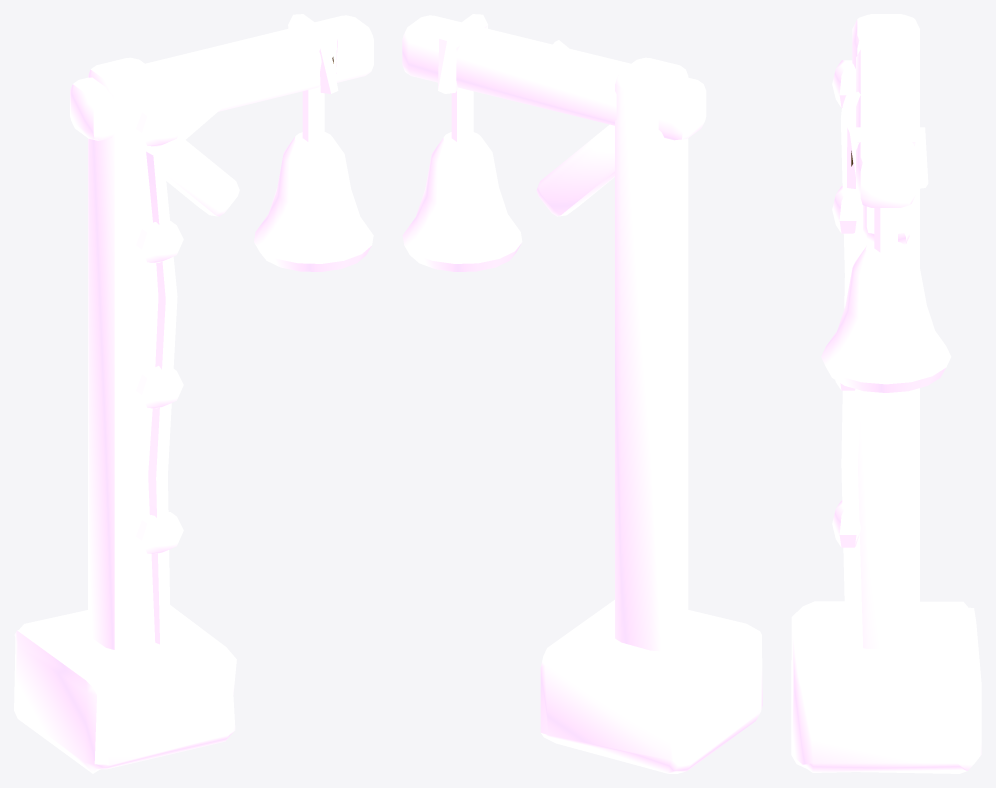
File: bell.gltf
The picture shows the model from 3 angles, left to right: view 1: azimuth 30°, elevation 25°; view 2: azimuth 150°, elevation 25°; view 3: azimuth 270°, elevation 25°; orthographic projection. The views are drawn at different scales.
Parts seen in each view (by area): view 1: HAUNT_static, HAUNT_bell; view 2: HAUNT_static, HAUNT_bell; view 3: HAUNT_static, HAUNT_bell.
Boxes of the visible parts, x1,y1,x2,y2 form: HAUNT_static: (14,14,373,773); HAUNT_bell: (254,87,373,271); HAUNT_static: (402,14,762,773); HAUNT_bell: (402,87,522,271); HAUNT_static: (791,14,981,773); HAUNT_bell: (821,208,951,392).
Size of what is drawn, in the model's own units: 1.14 by 2.29 by 0.5489.
Materials: 7 (6 with a texture image).
